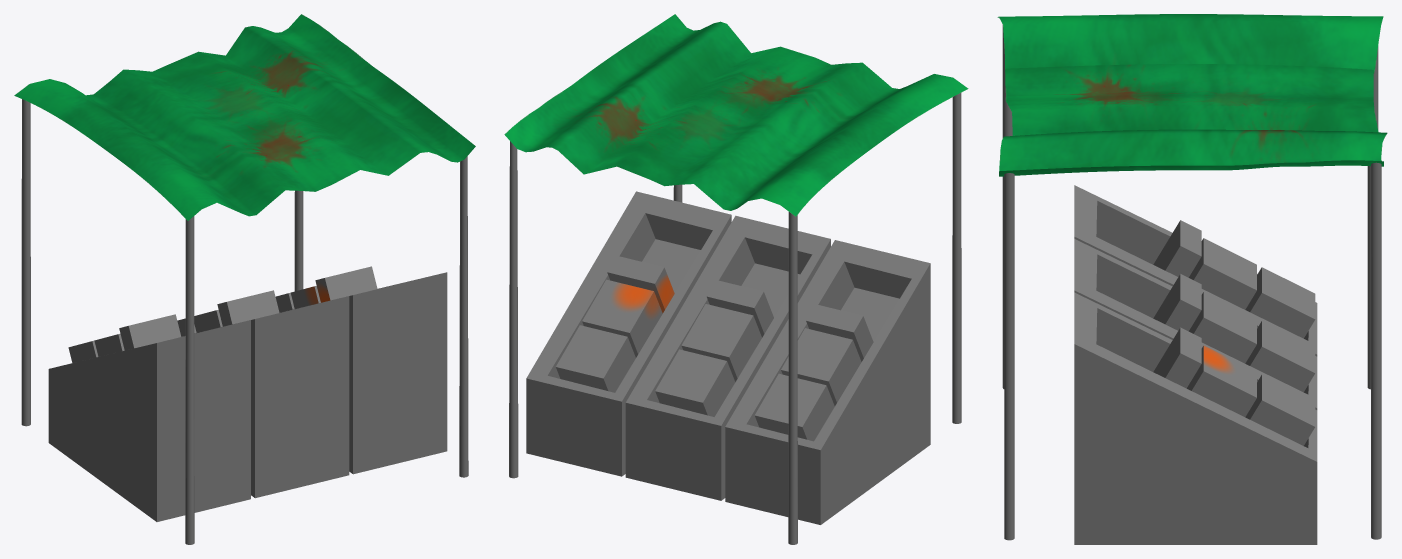
File: marketplace_prop_model.fbx
The picture shows the model from 3 angles, left to right: view 1: azimuth 30°, elevation 25°; view 2: azimuth 150°, elevation 25°; view 3: azimuth 270°, elevation 25°; orthographic projection. The views are drawn at different scales.
Parts seen in each view (by area): view 1: pCube21; view 2: pCube21; view 3: pCube21.
Boxes of the visible parts, left/top/right/bottom form: pCube21: left=14, top=14, right=475, bottom=544; pCube21: left=504, top=14, right=968, bottom=544; pCube21: left=997, top=14, right=1387, bottom=544.
Bounding box in the file's own units: 6.27 × 6.91 × 6.39.
